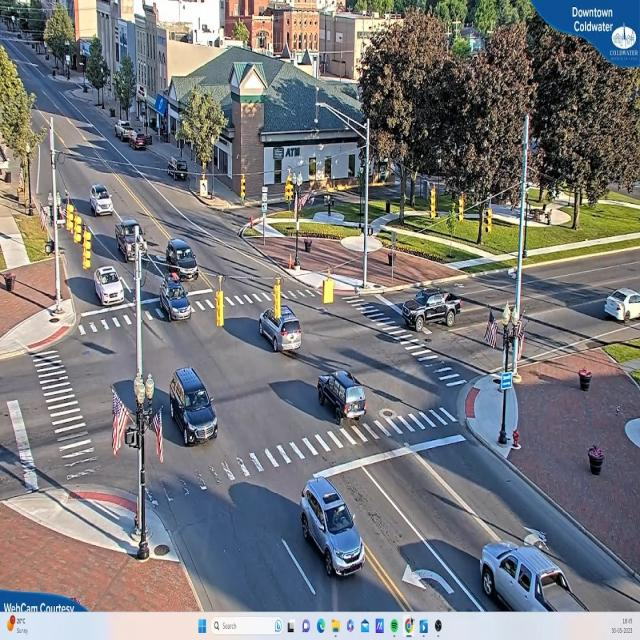car: (300, 476, 364, 579), (480, 540, 570, 611), (170, 366, 220, 444), (316, 369, 367, 424), (400, 292, 462, 333), (260, 307, 304, 353), (603, 288, 639, 325), (89, 184, 113, 216), (130, 134, 150, 150)
